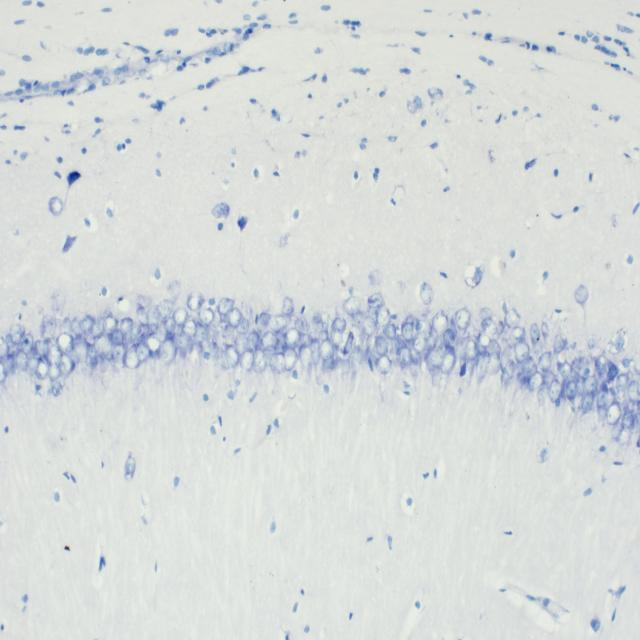neuron: (476, 349, 490, 385), (596, 380, 608, 420), (159, 340, 177, 366), (122, 344, 140, 369), (94, 332, 111, 358), (174, 329, 188, 360), (73, 335, 89, 362), (500, 359, 516, 386), (348, 348, 365, 373), (52, 288, 66, 318), (59, 352, 75, 378), (252, 349, 268, 374), (508, 326, 526, 348), (270, 352, 287, 375), (396, 346, 412, 370), (432, 312, 448, 336), (112, 342, 126, 369), (298, 344, 312, 371), (240, 348, 255, 373), (57, 332, 74, 354), (427, 346, 444, 368), (13, 349, 29, 372), (46, 344, 62, 367), (146, 332, 162, 355), (224, 344, 240, 367), (282, 348, 298, 371), (313, 357, 326, 385), (186, 291, 204, 311), (268, 314, 288, 332), (455, 308, 471, 330), (606, 402, 622, 424), (147, 305, 161, 330), (190, 338, 202, 367), (101, 338, 116, 361), (486, 352, 501, 375), (260, 331, 278, 350), (102, 315, 119, 335), (504, 308, 521, 328), (416, 319, 432, 340), (8, 324, 23, 346), (42, 314, 57, 336), (310, 337, 321, 367), (441, 352, 456, 374), (419, 282, 434, 304), (86, 342, 99, 367), (217, 296, 235, 314), (157, 299, 174, 318), (198, 308, 215, 327), (35, 357, 49, 380), (622, 408, 636, 431), (284, 328, 300, 348), (344, 296, 360, 316), (412, 332, 427, 353), (515, 342, 530, 363), (136, 341, 150, 363), (136, 305, 150, 327), (216, 324, 227, 352), (234, 332, 248, 354), (246, 330, 260, 352), (363, 314, 377, 336), (375, 356, 392, 374), (294, 316, 310, 335), (528, 372, 544, 391), (256, 312, 271, 332), (128, 322, 142, 343), (263, 345, 277, 366), (281, 296, 295, 317), (383, 321, 397, 342), (554, 333, 568, 354), (548, 381, 562, 402), (595, 354, 609, 375), (330, 317, 347, 334), (79, 315, 95, 333), (48, 359, 61, 381), (155, 321, 168, 343), (425, 326, 438, 348), (584, 374, 597, 396), (168, 280, 182, 300), (320, 340, 334, 360), (376, 308, 390, 328), (375, 336, 389, 356), (574, 284, 588, 304), (607, 359, 619, 382), (229, 307, 242, 328), (172, 307, 188, 324), (367, 292, 384, 308), (486, 341, 502, 358), (481, 319, 497, 336), (34, 338, 49, 356), (80, 358, 94, 377), (182, 319, 196, 338), (405, 313, 419, 332), (538, 352, 552, 371), (465, 339, 477, 361), (582, 392, 594, 414), (628, 379, 640, 401), (28, 348, 38, 374), (572, 362, 588, 378), (566, 379, 577, 402), (615, 373, 629, 391), (236, 316, 249, 335), (196, 322, 208, 342), (344, 332, 354, 356), (443, 328, 455, 348), (368, 268, 382, 285), (120, 317, 133, 335), (401, 322, 414, 340), (22, 333, 33, 354), (536, 388, 548, 407), (552, 372, 564, 391), (611, 421, 623, 440), (522, 363, 538, 377), (605, 342, 621, 356), (68, 319, 81, 336), (559, 361, 572, 378), (530, 323, 540, 345), (604, 387, 615, 407), (60, 318, 72, 336), (331, 328, 343, 346), (354, 309, 366, 327), (622, 398, 634, 416), (476, 333, 491, 347), (164, 317, 176, 334), (365, 334, 377, 350), (544, 369, 554, 388), (112, 329, 123, 346), (91, 323, 104, 337), (618, 430, 631, 444), (7, 354, 16, 374), (316, 330, 328, 345), (323, 357, 335, 372), (478, 307, 493, 319), (0, 342, 10, 359), (614, 334, 624, 351), (0, 360, 7, 383), (212, 342, 220, 362), (224, 324, 234, 340), (52, 382, 63, 396), (575, 380, 585, 395), (8, 341, 19, 353), (541, 322, 549, 338), (220, 311, 231, 322), (202, 352, 212, 362), (497, 320, 503, 336), (5, 333, 13, 344), (588, 338, 594, 349)
